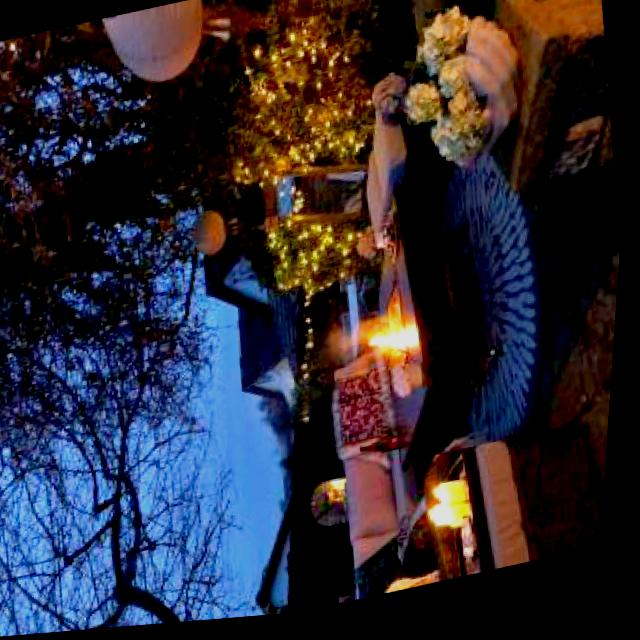Fire: (359, 313, 429, 385)
